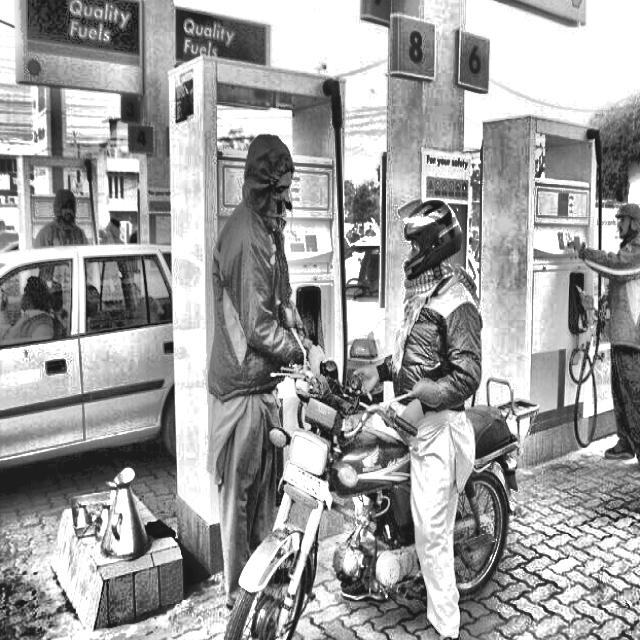Helmet: (392, 193, 468, 288)
